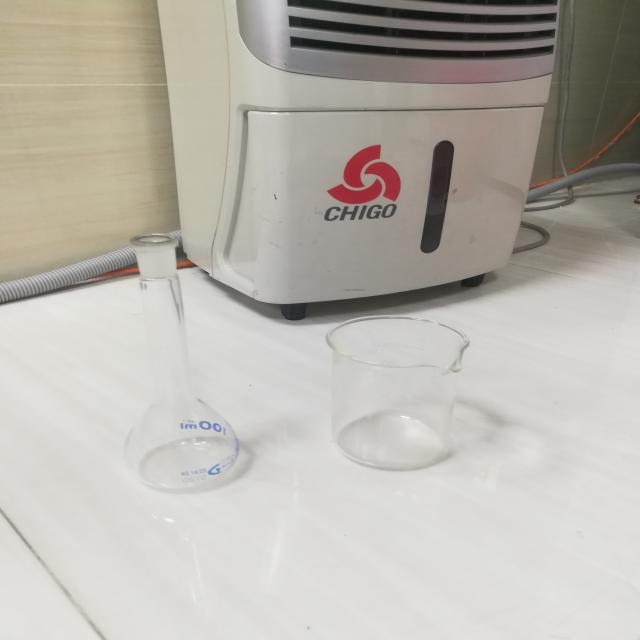Beaker: (300, 282, 496, 482)
Volumetric_Flask: (90, 212, 264, 514)
